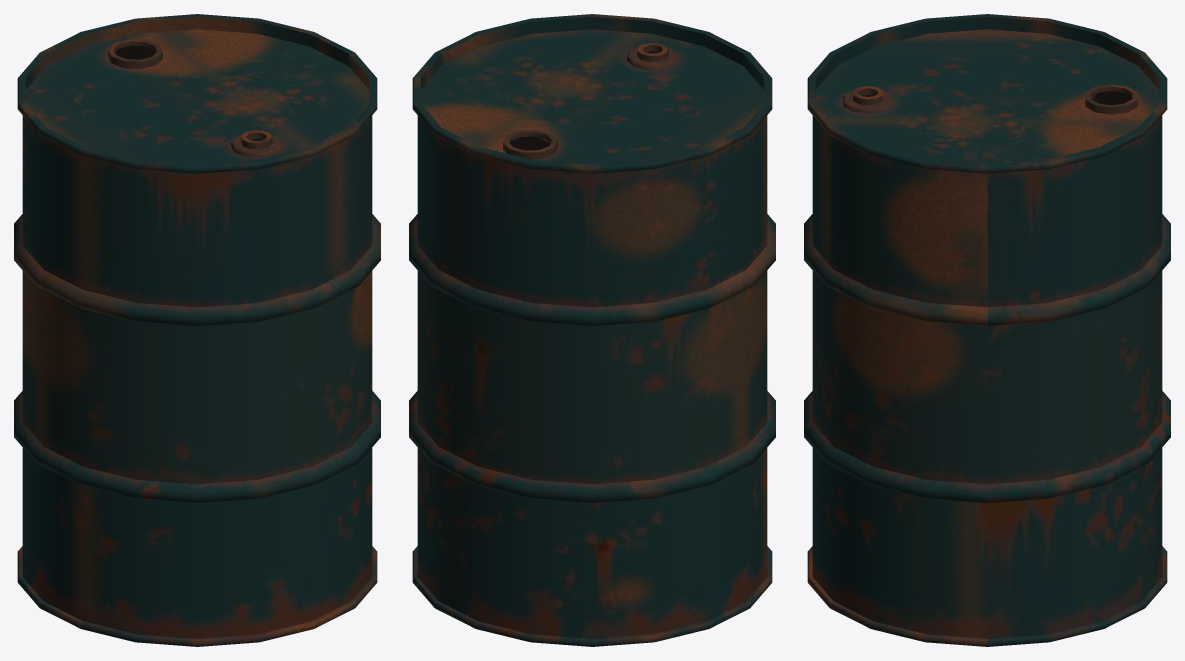
Rendered from drum_rust.glb.
The picture shows the model from 3 angles, left to right: view 1: azimuth 30°, elevation 25°; view 2: azimuth 150°, elevation 25°; view 3: azimuth 270°, elevation 25°; orthographic projection.
Parts seen in each view (by area): view 1: dock; view 2: dock; view 3: dock.
Boxes of the visible parts, left/top/right/bottom form: dock: left=14, top=14, right=380, bottom=646; dock: left=409, top=14, right=775, bottom=646; dock: left=804, top=14, right=1170, bottom=646.
Bounding box in the file's own units: 0.624 × 0.887 × 0.6145.
Materials: 1 (1 with a texture image).
